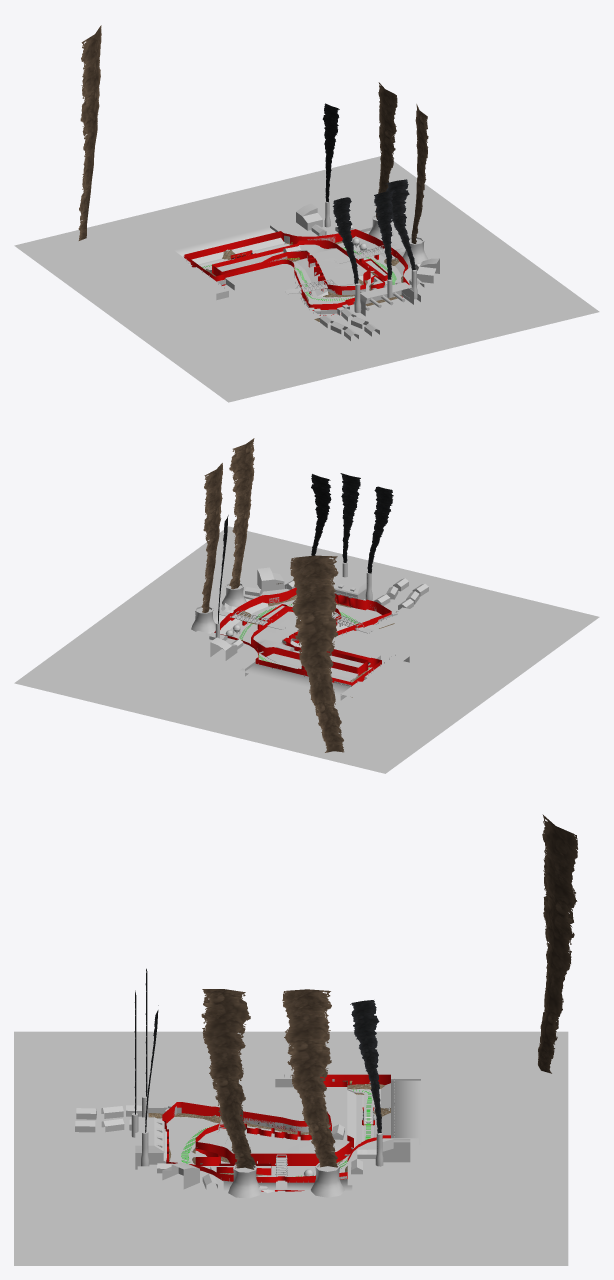
File: Track12_Prefab.fbx
3 renders of one model, top to bottom at view 1: azimuth 30°, elevation 25°; view 2: azimuth 150°, elevation 25°; view 3: azimuth 270°, elevation 25°, orthographic. The views are drawn at different scales.
Parts seen in each view (by area): view 1: Environment004, Environment003, Environment001, Environment002, InvisibleWall, Smoke004, Smoke006, Smoke001, BuildingsSector004, BuildingsSector007, BuildingsSector003, BuildingsSector001 (+6 smaller); view 2: Environment004, Environment002, Environment003, Environment001, Smoke006, Smoke001, InvisibleWall, Smoke004, BuildingsSector007, BuildingsSector004, BuildingsSector002, BuildingsSector003 (+6 smaller); view 3: Environment002, Environment001, Environment004, Environment003, Smoke001, Smoke006, InvisibleWall, BuildingsSector004, BuildingsSector007, BuildingsSector005, Smoke007, BuildingsSector006 (+9 smaller).
Part boxes in pixels (<box>): Environment004: <box>121,284,413,402</box>; Environment003: <box>14,200,284,323</box>; Environment001: <box>351,233,599,357</box>; Environment002: <box>200,156,492,249</box>; InvisibleWall: <box>184,229,409,315</box>; Smoke004: <box>332,179,415,284</box>; Smoke006: <box>78,25,101,240</box>; Smoke001: <box>376,82,428,243</box>; BuildingsSector004: <box>353,258,467,316</box>; BuildingsSector007: <box>270,201,371,243</box>; BuildingsSector003: <box>160,249,299,300</box>; BuildingsSector001: <box>299,244,386,294</box>; Environment004: <box>336,571,599,695</box>; Environment002: <box>14,605,267,728</box>; Environment003: <box>200,670,492,773</box>; Environment001: <box>121,526,413,622</box>; Smoke006: <box>290,555,344,752</box>; Smoke001: <box>201,438,254,612</box>; InvisibleWall: <box>214,587,391,685</box>; Smoke004: <box>311,473,393,573</box>; BuildingsSector007: <box>170,622,263,676</box>; BuildingsSector004: <box>243,562,366,605</box>; BuildingsSector002: <box>355,572,428,634</box>; BuildingsSector003: <box>332,630,409,700</box>; Environment002: <box>291,1148,568,1265</box>; Environment001: <box>14,1148,290,1265</box>; Environment004: <box>14,1031,290,1148</box>; Environment003: <box>291,1031,568,1148</box>; Smoke001: <box>201,989,337,1169</box>; Smoke006: <box>538,814,577,1073</box>; InvisibleWall: <box>162,1074,390,1191</box>; BuildingsSector004: <box>131,1113,223,1196</box>; BuildingsSector007: <box>344,1133,418,1185</box>; BuildingsSector005: <box>221,1163,352,1198</box>; Smoke007: <box>350,1000,381,1133</box>; BuildingsSector006: <box>383,1077,421,1144</box>.
Size of the model in its own units: 1800 by 918 by 1903.
